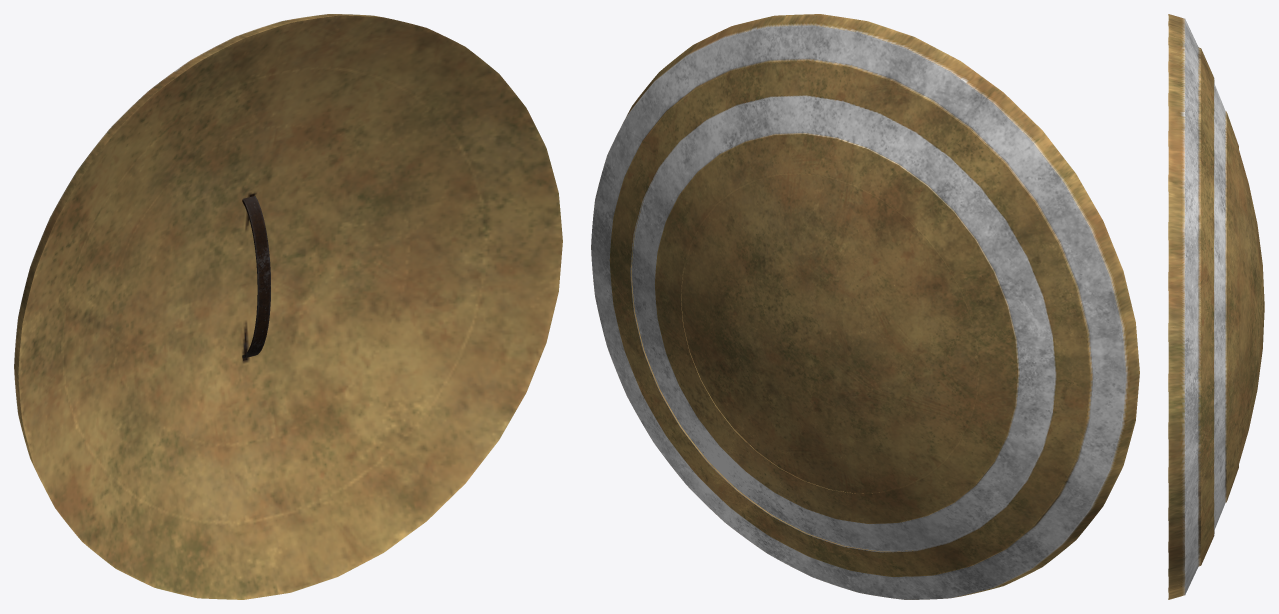
File: gold_shield.glb
3 renders of one model, left to right at view 1: azimuth 30°, elevation 25°; view 2: azimuth 150°, elevation 25°; view 3: azimuth 270°, elevation 25°, orthographic. The views are drawn at different scales.
Visible parts, largest first — view 1: Object_2; view 2: Object_2; view 3: Object_2.
Boxes of the visible parts, left/top/right/bottom form: Object_2: left=14, top=14, right=562, bottom=599; Object_2: left=591, top=14, right=1139, bottom=599; Object_2: left=1168, top=14, right=1264, bottom=599.
Bounding box in the file's own units: 81.41 × 81.41 × 13.37.
Materials: 1 (1 with a texture image).
